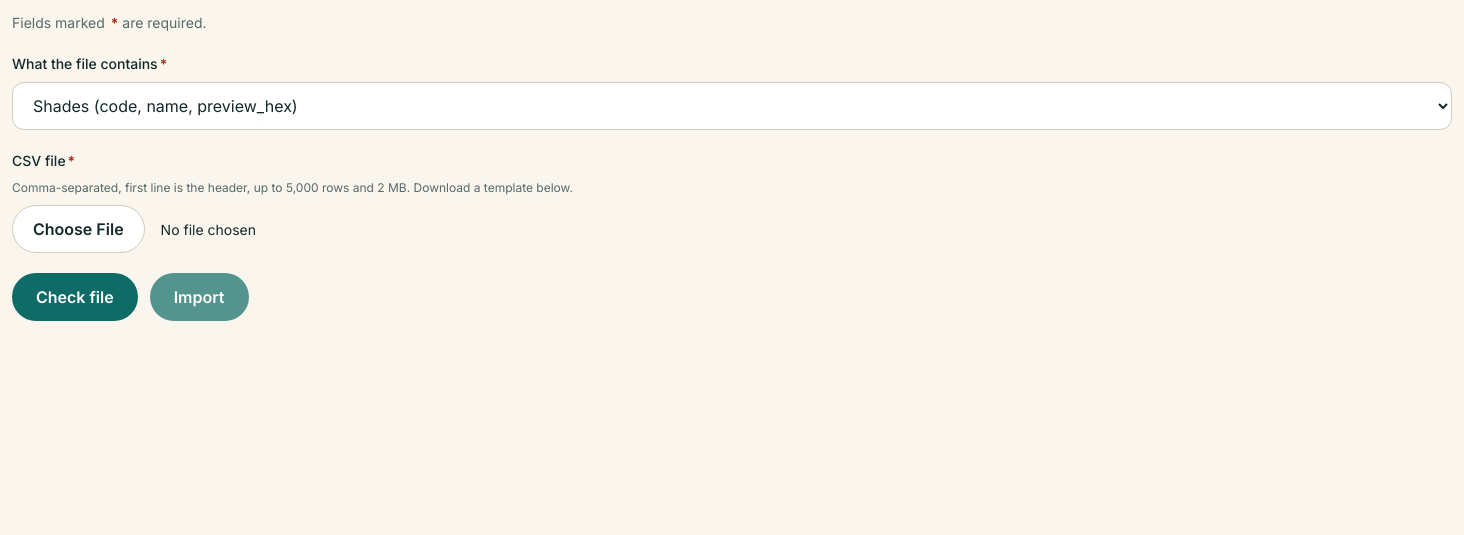
Test case: ImportForm › lists row problems and keeps Import disabled
This screenshot has width=1464, height=535.
Step 1. Click the button "Check file" → (75,297), box [12,273,138,321]
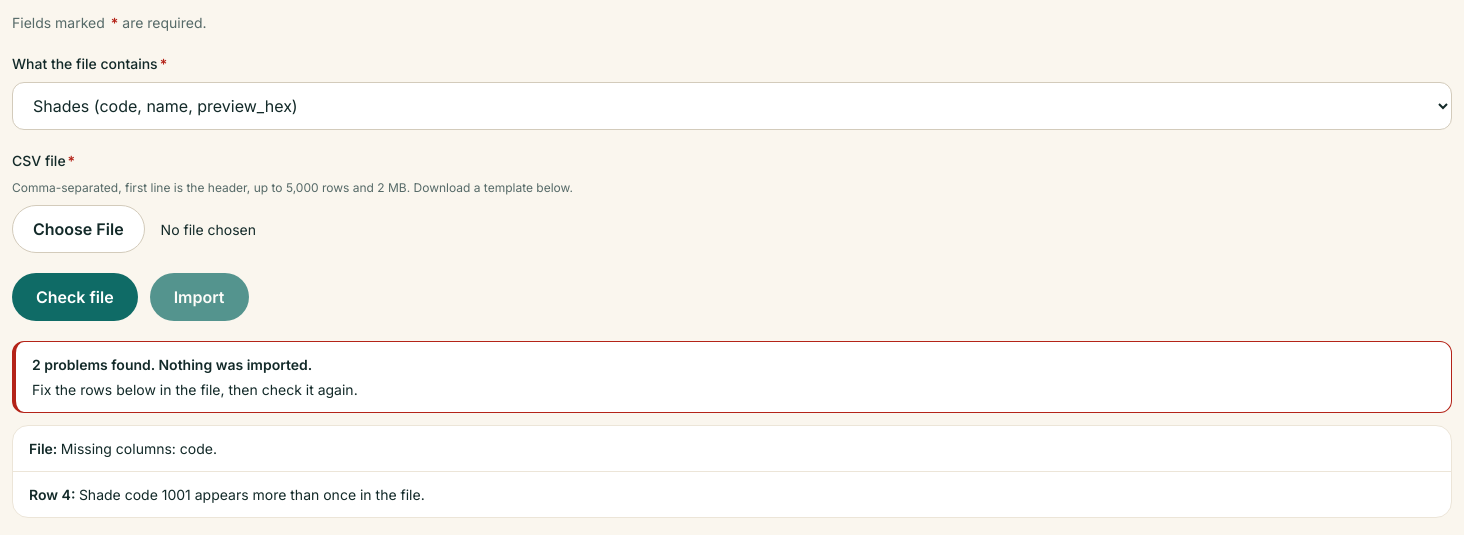
Expected: the text "2 problems found. Nothing was imported." is shown, [32,356,312,373]
Expected: the text "File:" is shown, [29,440,61,457]
Expected: the text "Row 4:" is shown, [29,486,79,503]
